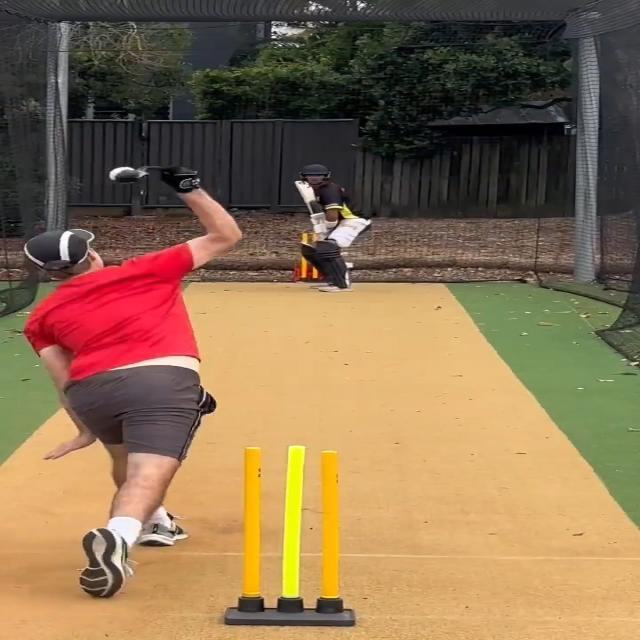stump: (224, 446, 358, 627)
